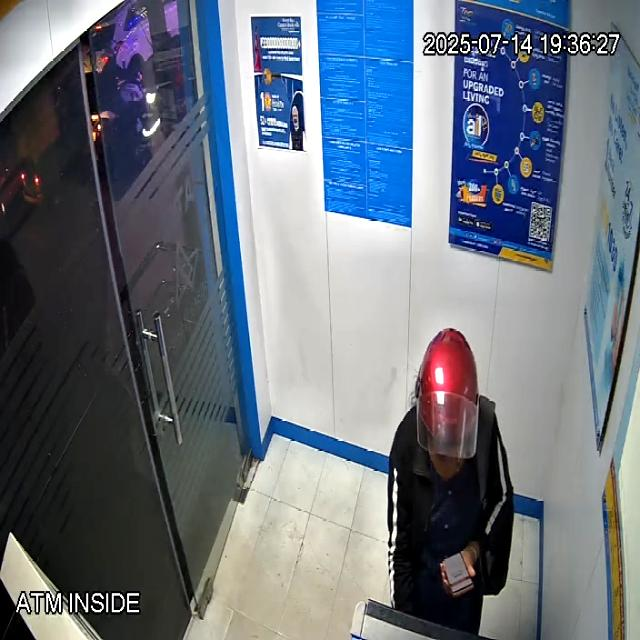helmet: (414, 328, 479, 458)
